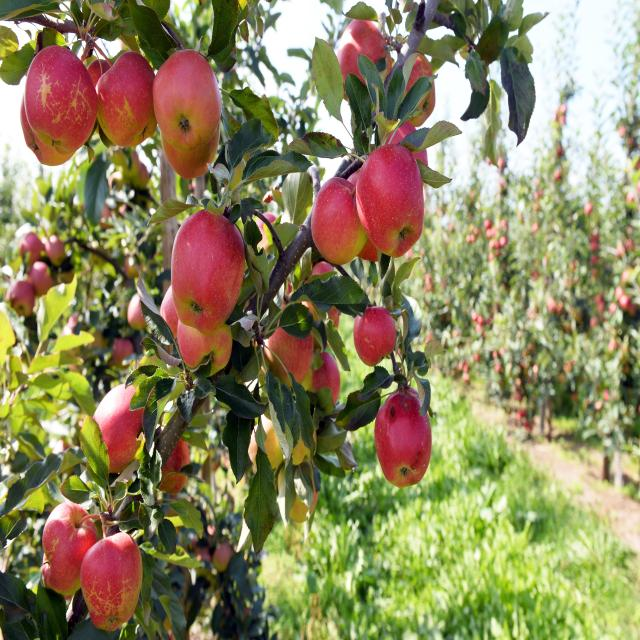apple: (170, 208, 246, 334), (20, 46, 96, 166), (152, 49, 218, 180), (356, 143, 424, 261), (89, 382, 154, 476), (81, 532, 142, 632), (336, 19, 394, 122), (97, 52, 157, 149), (373, 391, 432, 488), (42, 500, 98, 599), (310, 175, 370, 266), (264, 314, 314, 388), (400, 50, 435, 130), (154, 425, 191, 496), (353, 306, 395, 368), (313, 352, 340, 414), (6, 282, 38, 321), (125, 292, 153, 332), (16, 232, 45, 270), (28, 262, 55, 298), (44, 233, 70, 270)
